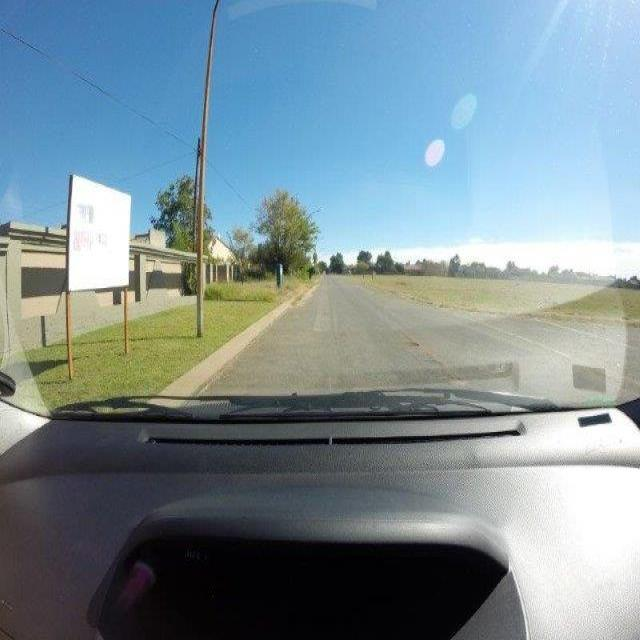lubang: (420, 348, 470, 387), (403, 335, 428, 353)
